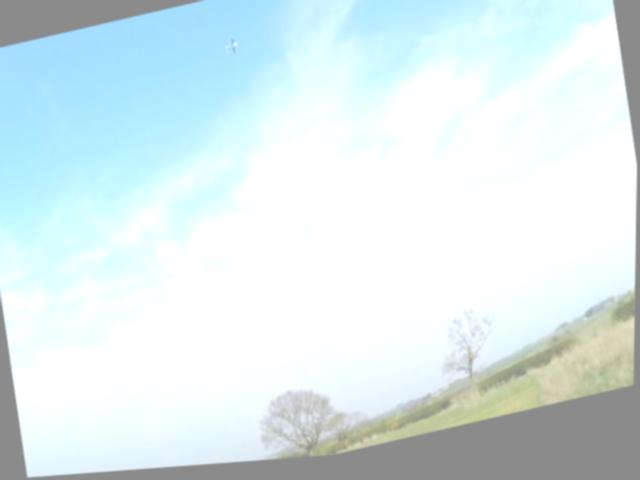iha: (218, 37, 248, 62)
